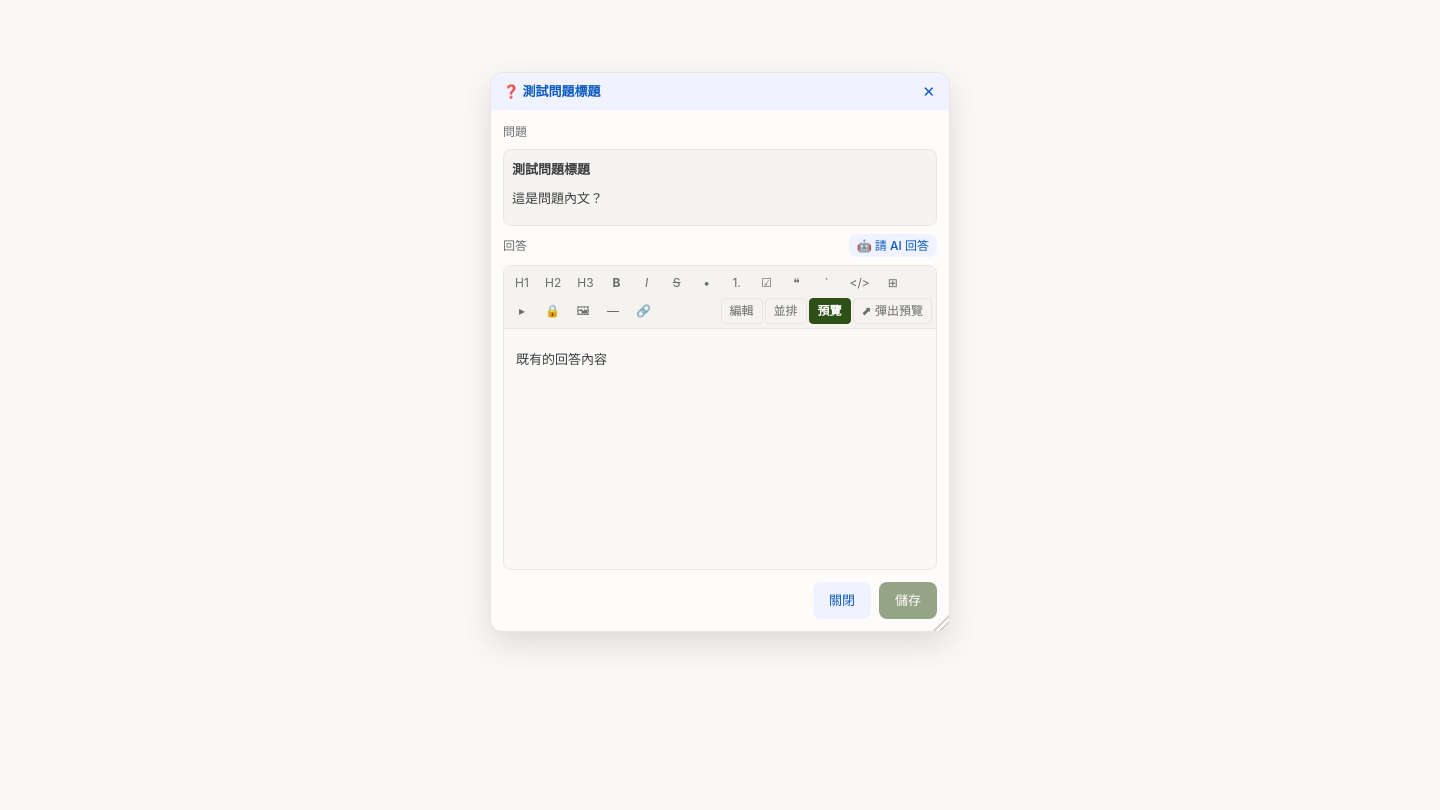
答題彈窗回答區的預設模式與右鍵切換 › B2: 在回答預覽區快速連點兩下右鍵 → 切換成編輯模式（textarea 出現）
This screenshot has width=1440, height=810.
Step 1. Right-click the element with class "mde-preview" → [720, 449], box [504, 329, 936, 569]
Step 2. Right-click the element with class "mde-preview" → [720, 449], box [504, 329, 936, 569]
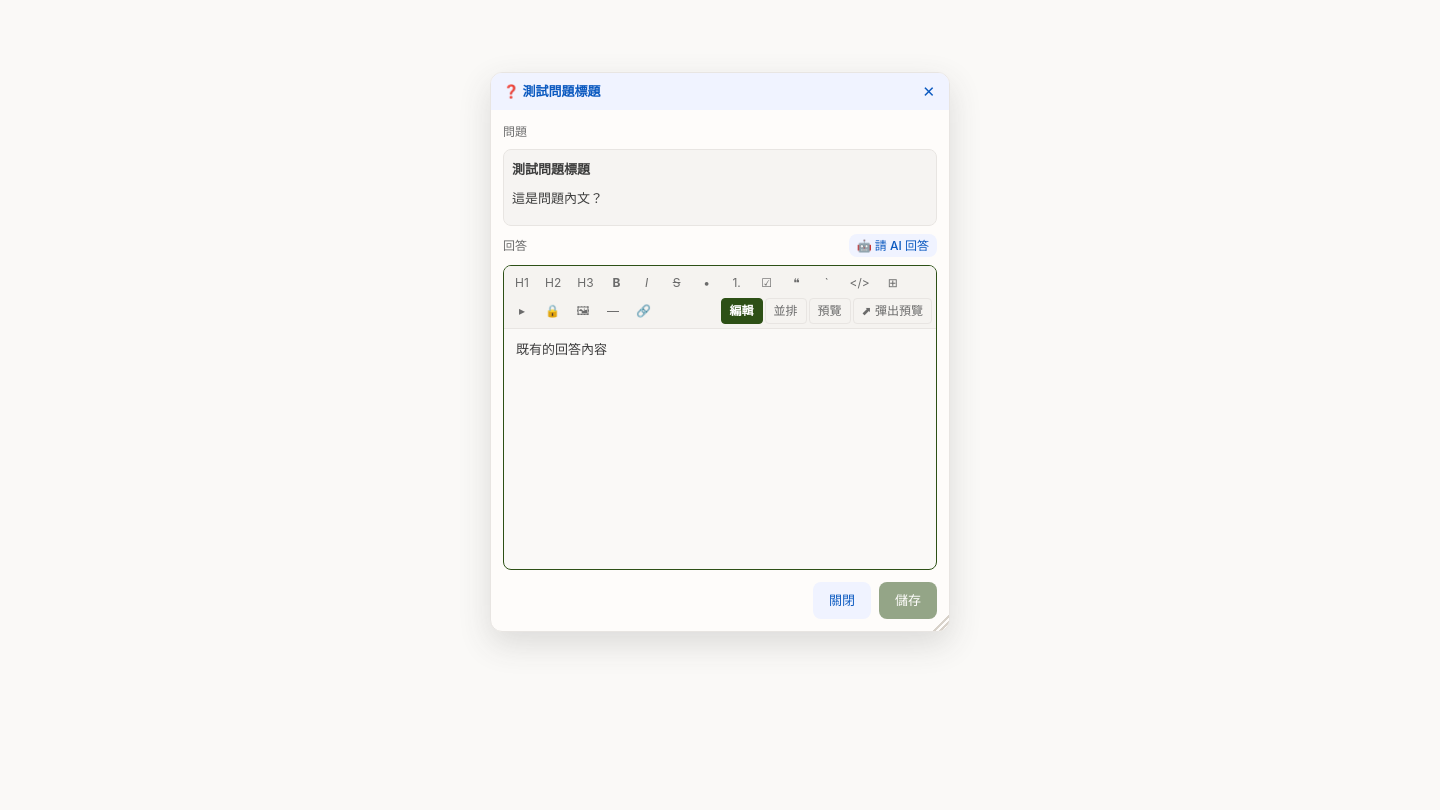
Expected: the text box named "問題回答編輯器" is shown, [504, 329, 936, 569]
